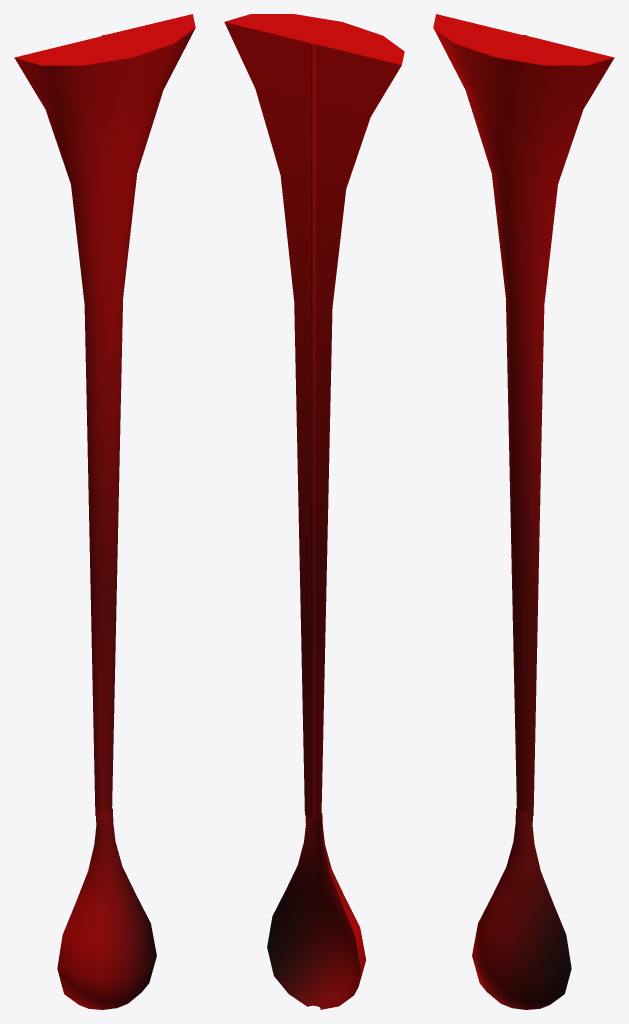
Rendered from Blood_002.FBX.
The picture shows the model from 3 angles, left to right: view 1: azimuth 30°, elevation 25°; view 2: azimuth 150°, elevation 25°; view 3: azimuth 330°, elevation 25°; orthographic projection.
Parts seen in each view (by area): view 1: Blood_002; view 2: Blood_002; view 3: Blood_002.
Boxes of the visible parts, x1,y1,x2,y2 form: Blood_002: (14, 14, 195, 1009); Blood_002: (224, 14, 404, 1009); Blood_002: (433, 14, 614, 1009).
Size of the model in its own units: 11.95 by 62.07 by 3.53.
1 material, 1 textured.
